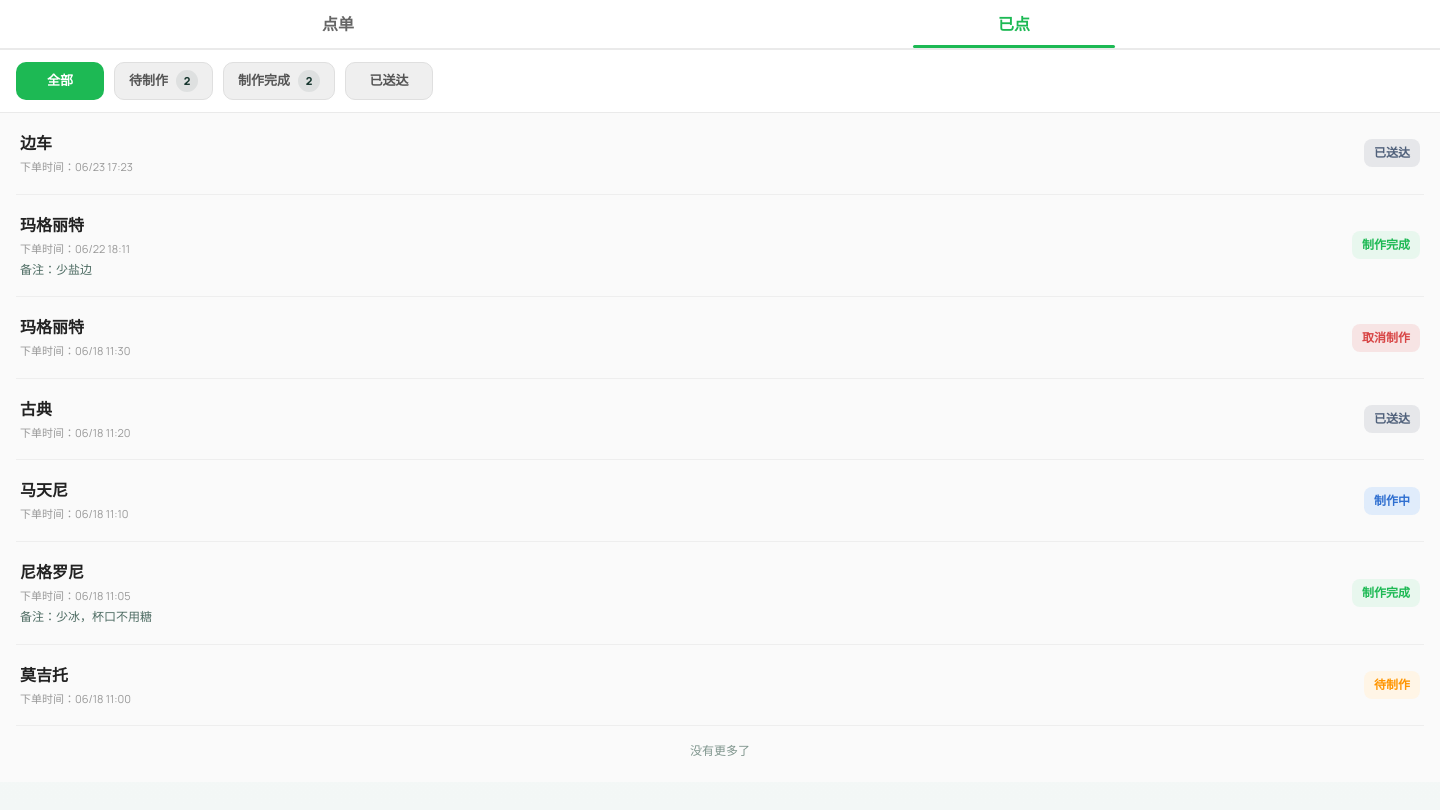
Scenario: OrderedTasksPage › requests pending and in-progress records together under 待制作
The width and height of the screenshot is (1440, 810).
Expected: the text "边车" is shown, [20,132,52,154]
Step 1. Click the button "待制作 2" → [164, 81], box [114,62,213,100]
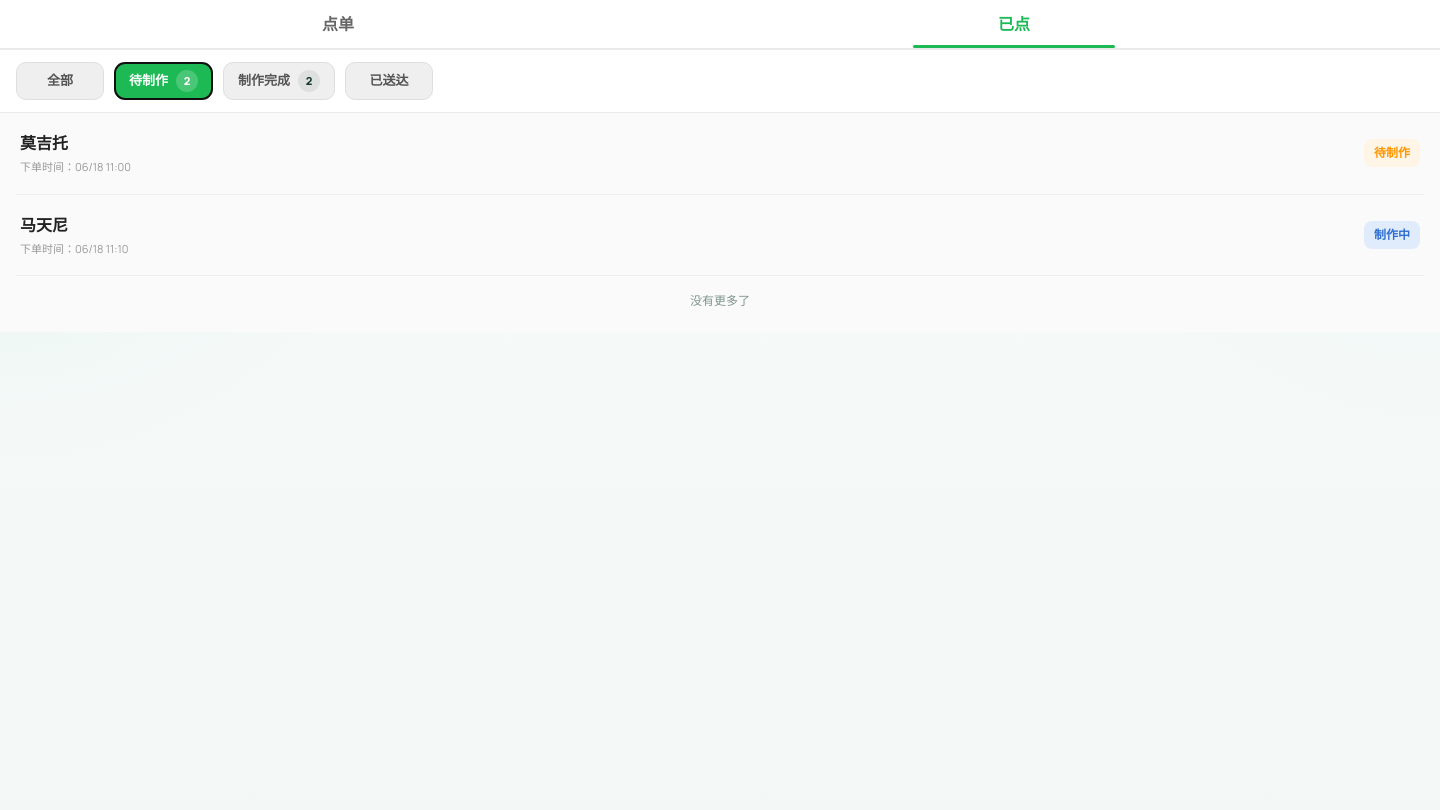
Expected: the text "莫吉托" is shown, [20,132,68,154]
Expected: the button "古典" is gone
